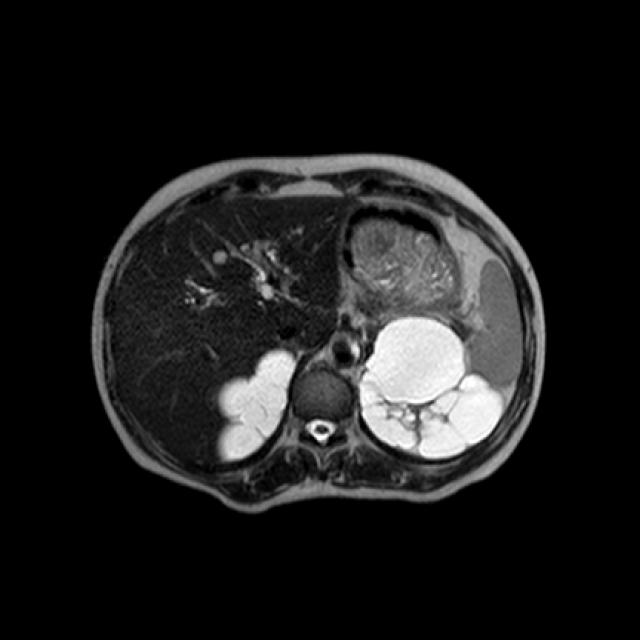sag: (216, 349, 294, 466)
sol: (361, 315, 505, 460)
